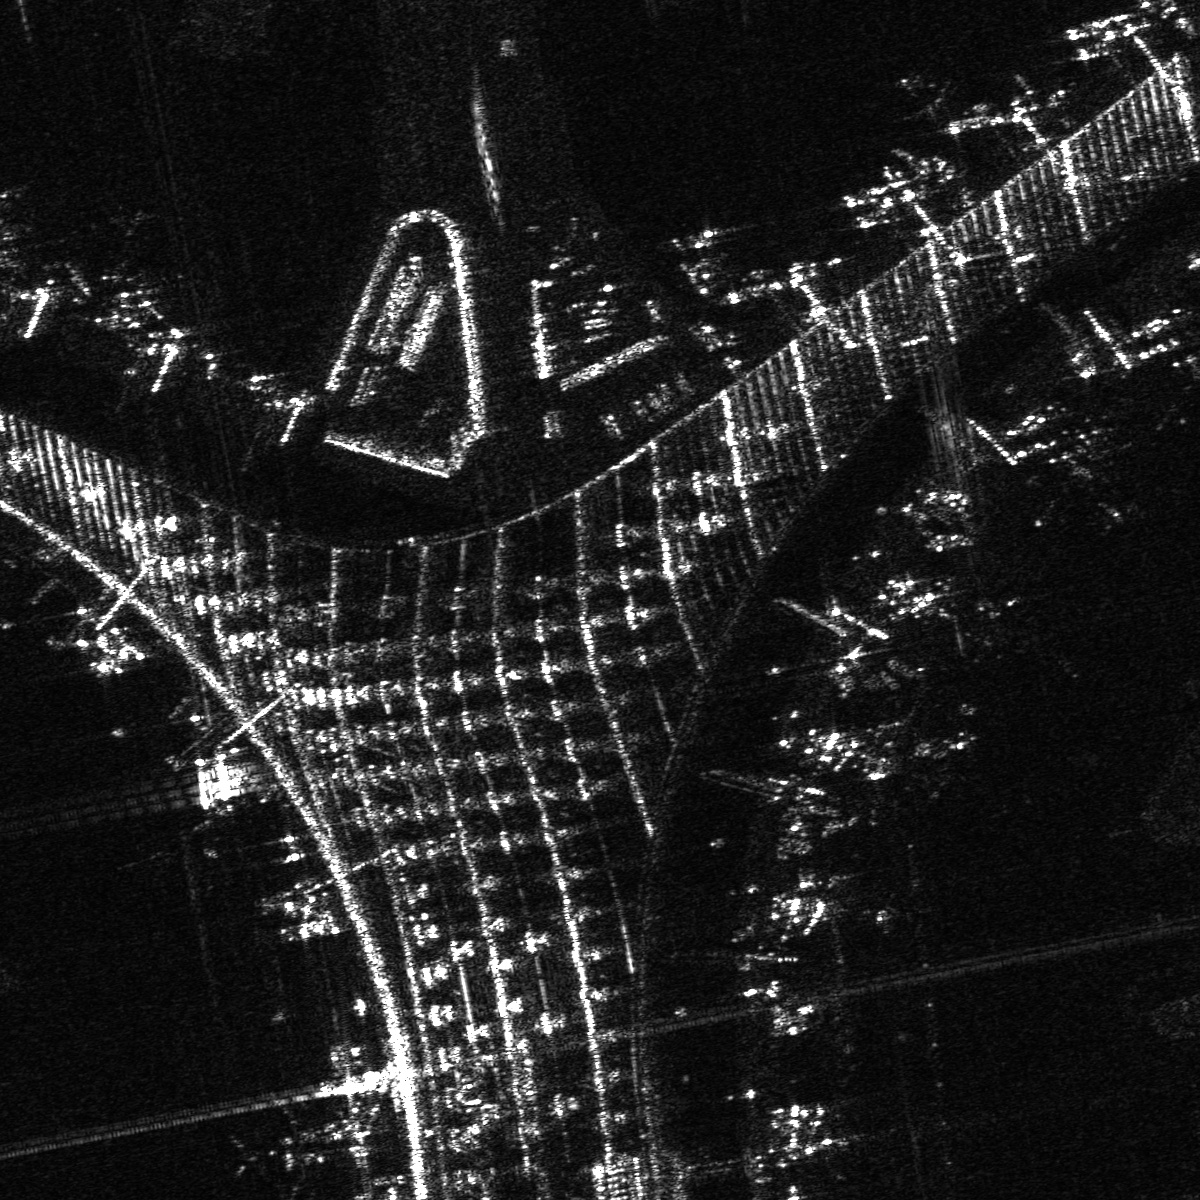Boeing787: (1036, 438, 1134, 525), (936, 584, 1022, 669), (893, 69, 956, 122)
other: (230, 1091, 342, 1199), (818, 870, 895, 946), (1155, 344, 1199, 431)
